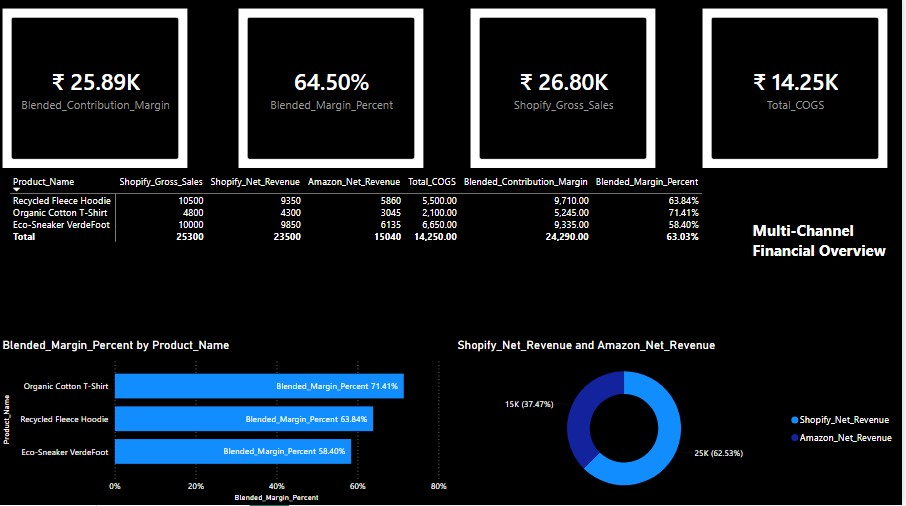

The dashboard page shown, as its layout file describes it:
{"tool":"powerbi","page":{"name":"Executive Overview","canvas":[1280,720],"ordinal":0},"visuals":[{"type":"pivotTable","fields":{"Rows":["Product_Master.Product_Name"],"Values":["_Financial_Measures.Shopify_Gross_Sales","_Financial_Measures.Shopify_Net_Revenue","_Financial_Measures.Amazon_Net_Revenue","_Financial_Measures.Total_COGS","_Financial_Measures.Blended_Contribution_Margin","_Financial_Measures.Blended_Margin_Percent"]},"box":[10.1,248.6,1053.2,235.2],"z":0},{"type":"cardVisual","fields":{"Data":["_Financial_Measures.Blended_Contribution_Margin"]},"box":[0,11.8,272.1,236.9],"z":1000},{"type":"cardVisual","fields":{"Data":["_Financial_Measures.Blended_Margin_Percent"]},"box":[334.3,11.8,272.1,236.9],"z":2000},{"type":"cardVisual","fields":{"Data":["_Financial_Measures.Shopify_Gross_Sales"]},"box":[663,11.8,272.1,236.9],"z":3000},{"type":"cardVisual","fields":{"Data":["_Financial_Measures.Total_COGS"]},"box":[992.8,11.8,272.1,236.9],"z":4000},{"type":"donutChart","fields":{"Y":["_Financial_Measures.Shopify_Net_Revenue","_Financial_Measures.Amazon_Net_Revenue"]},"box":[645,483.8,635,236.9],"z":5000},{"type":"clusteredBarChart","fields":{"Category":["Product_Master.Product_Name"],"Y":["_Financial_Measures.Blended_Margin_Percent"]},"box":[0,483.8,640,236.9],"z":6000},{"type":"textbox","box":[1063.3,310.8,216.7,92.4],"z":6001}]}

Visuals, with their boxes in screenshot pixels (x1, y1, x2, y2), scaled from the page's 1280x720 canvas onto the 906x506 screenshot:
pivotTable - Product_Master.Product_Name x _Financial_Measures.Shopify_Gross_Sales: <box>7,175,753,340</box>
cardVisual - _Financial_Measures.Blended_Contribution_Margin: <box>0,8,193,175</box>
cardVisual - _Financial_Measures.Blended_Margin_Percent: <box>237,8,429,175</box>
cardVisual - _Financial_Measures.Shopify_Gross_Sales: <box>469,8,662,175</box>
cardVisual - _Financial_Measures.Total_COGS: <box>703,8,895,175</box>
donutChart - _Financial_Measures.Shopify_Net_Revenue x _Financial_Measures.Amazon_Net_Revenue: <box>457,340,905,505</box>
clusteredBarChart - Product_Master.Product_Name x _Financial_Measures.Blended_Margin_Percent: <box>0,340,453,505</box>
textbox: <box>753,218,905,283</box>
